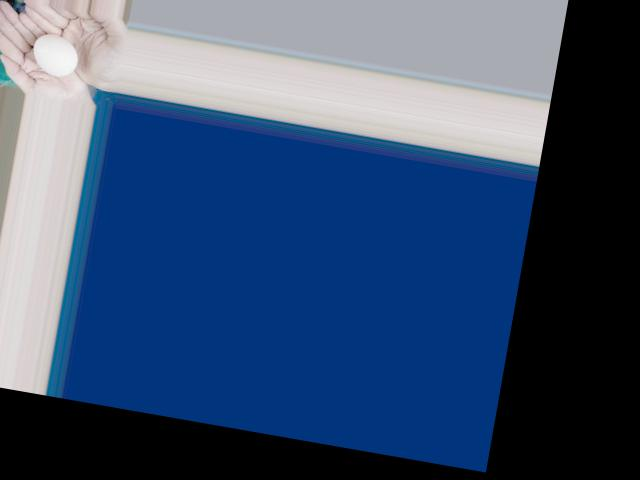egg: (29, 31, 80, 77)
